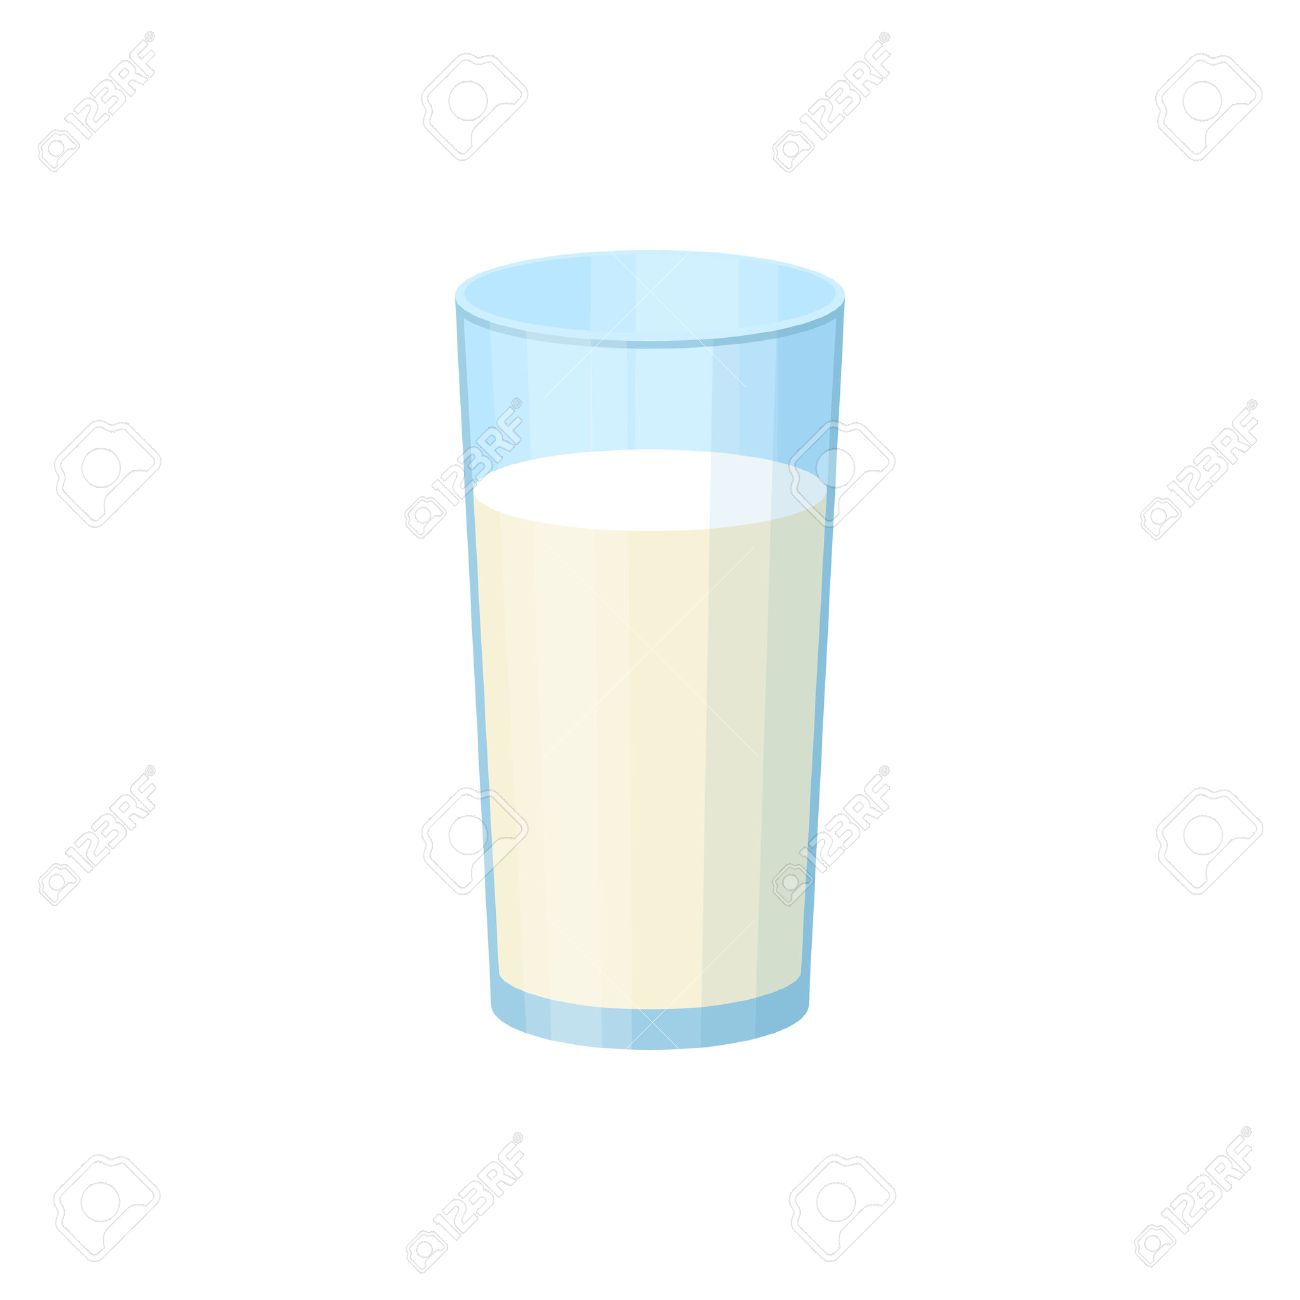glass of milk: (430, 232, 880, 1064)
